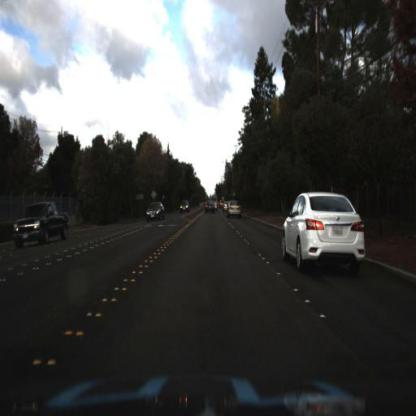car: (283, 190, 369, 272), (14, 202, 71, 249), (145, 201, 167, 224), (225, 199, 243, 221), (180, 201, 193, 216), (204, 201, 216, 217)
